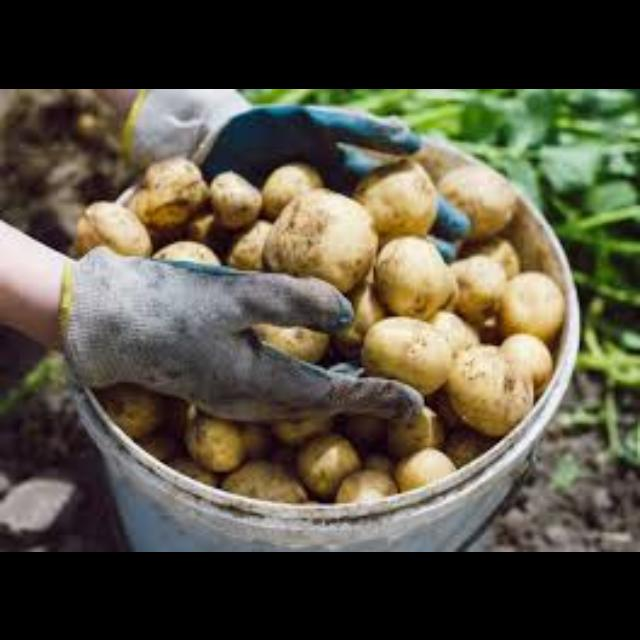Diseased-fungal potato: (251, 192, 375, 286), (451, 347, 541, 439), (380, 236, 460, 322), (132, 150, 208, 234)
Potato: (359, 314, 453, 400), (494, 270, 566, 344)
